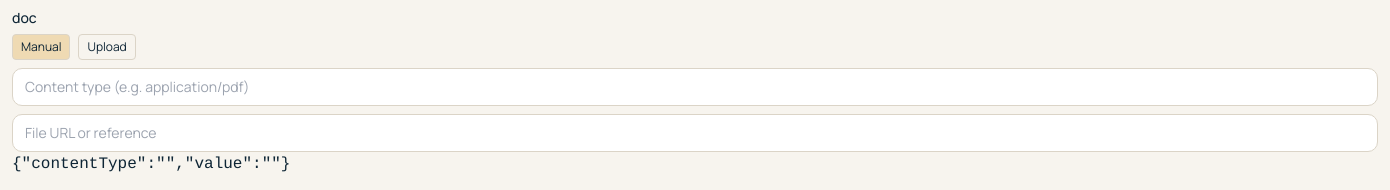
Test: FileField › supports manual content type and value entry
The width and height of the screenshot is (1390, 190).
In the field with placeholder "Content type (e.g. application/pdf)": (695, 87) 12,68 -> 1378,106, type "application/pdf"
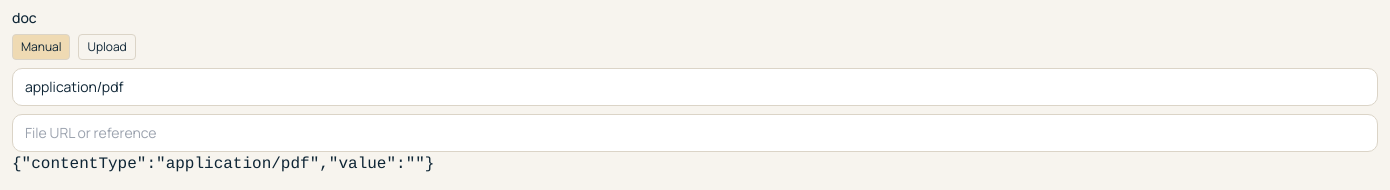
In the field with placeholder "File URL or reference": (695, 133) 12,114 -> 1378,152, type "https://example.com/doc.pdf"
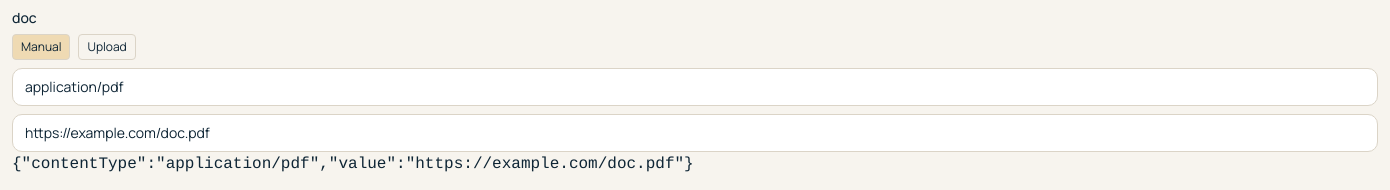
Expected: the text with test id "doc-value" shows "application/pdf", 12,155 -> 694,173
Expected: the text with test id "doc-value" shows "https://example.com/doc.pdf", 12,155 -> 694,173
